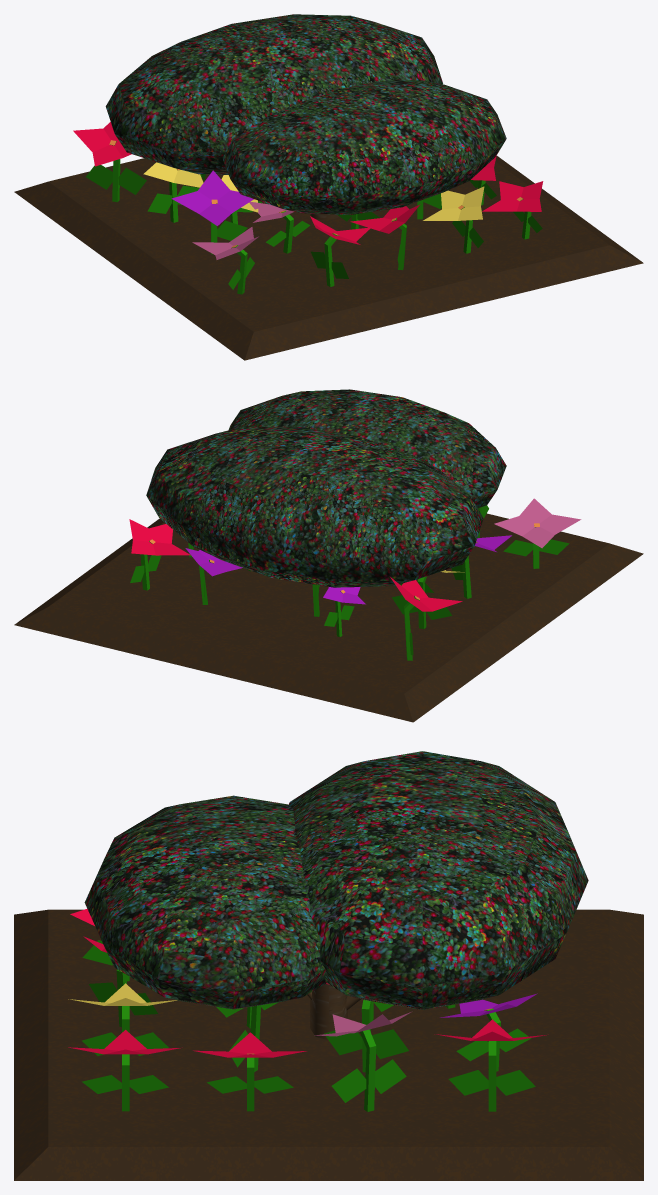
File: police_features.glb
3 renders of one model, top to bottom at view 1: azimuth 30°, elevation 25°; view 2: azimuth 150°, elevation 25°; view 3: azimuth 270°, elevation 25°, orthographic. The views are drawn at different scales.
Parts seen in each view (by area): view 1: flower_garden, berry_bush; view 2: flower_garden, berry_bush; view 3: flower_garden, berry_bush.
Part boxes in pixels (x1,y1,x2,y2): flower_garden: (14, 122, 643, 360); berry_bush: (105, 14, 506, 219); flower_garden: (14, 498, 643, 722); berry_bush: (146, 389, 506, 587); flower_garden: (14, 909, 643, 1180); berry_bush: (84, 751, 588, 1040).
Size of what is drawn, in the model's own units: 2 by 0.9086 by 2.
9 materials, 3 textured.
